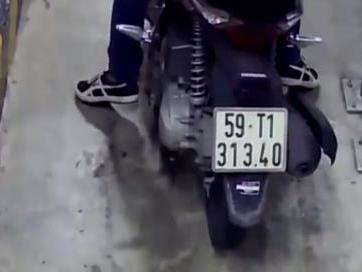num_plate: (211, 108, 288, 172)
